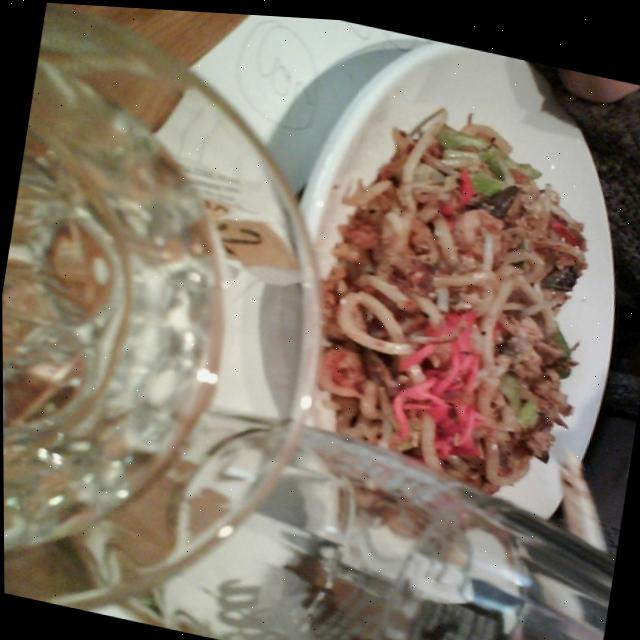面条主食: (235, 11, 640, 611)
